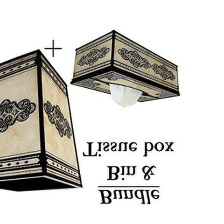tissue: (104, 79, 146, 112)
